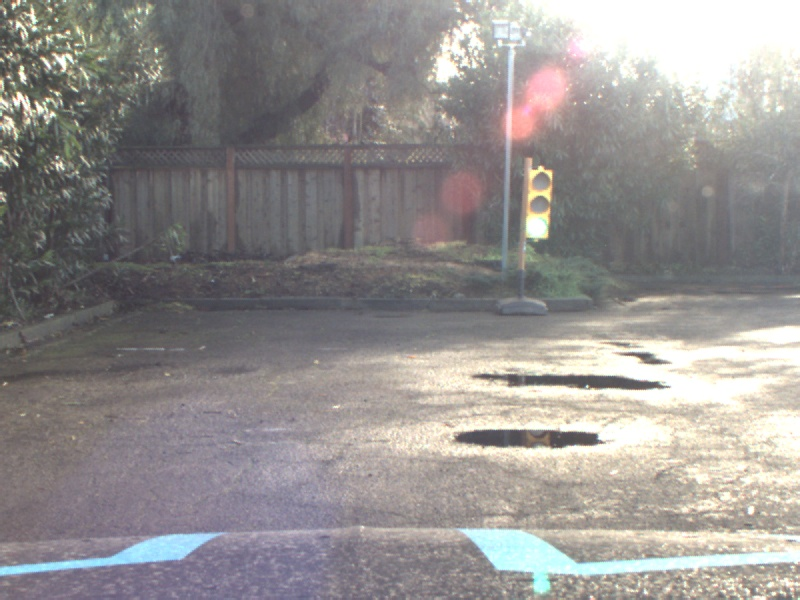Green: (525, 167, 550, 239)
